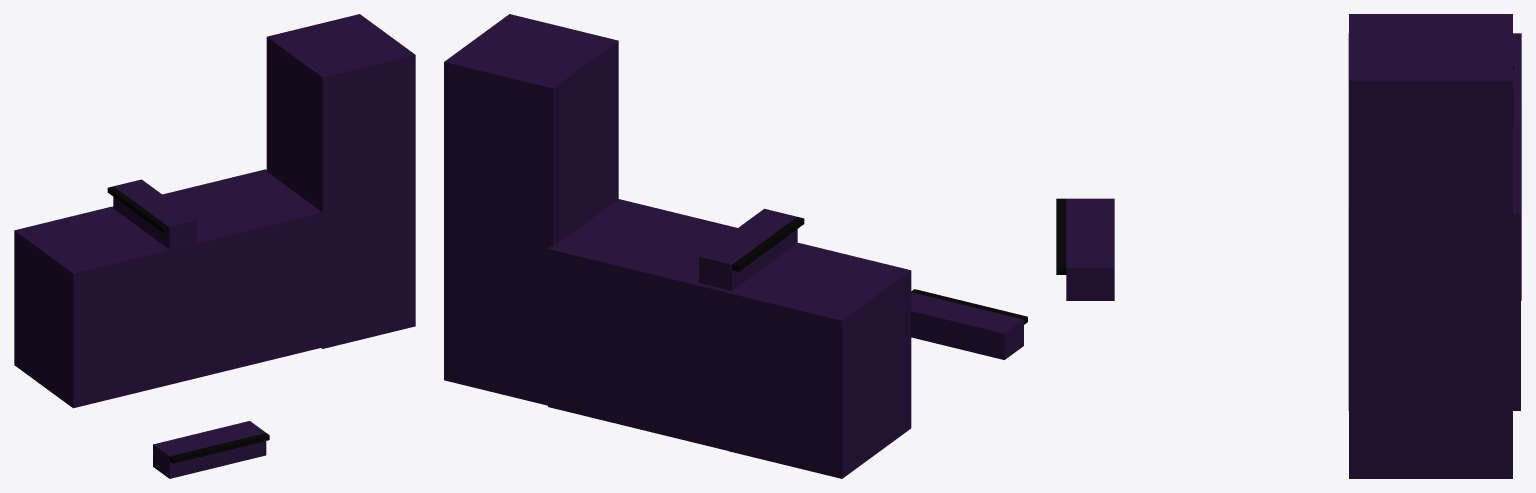
The model's file is stairs2.dae.
The picture shows the model from 3 angles, left to right: view 1: azimuth 30°, elevation 25°; view 2: azimuth 150°, elevation 25°; view 3: azimuth 270°, elevation 25°; orthographic projection. The views are drawn at different scales.
Parts seen in each view (by area): view 1: Cube.003, Cube.004, Cube.001, Cube, Cube.002; view 2: Cube.003, Cube.004, Cube.001, Cube, Cube.002; view 3: Cube.003, Cube, Cube.004, Cube.001.
Boxes of the visible parts, x1,y1,x2,y2 form: Cube.003: (266,14,415,348); Cube.004: (107,169,324,399); Cube.001: (14,207,169,408); Cube: (153,421,269,478); Cube.002: (107,179,197,249); Cube.003: (444,14,618,405); Cube.004: (548,199,737,450); Cube.001: (728,242,911,478); Cube: (911,289,1027,359); Cube.002: (699,208,804,290); Cube.003: (1349,14,1512,478); Cube: (1056,198,1114,300); Cube.004: (1348,102,1520,410); Cube.001: (1348,33,1521,300).
Size of the model in its own units: 3.19 by 2.56 by 2.41.
